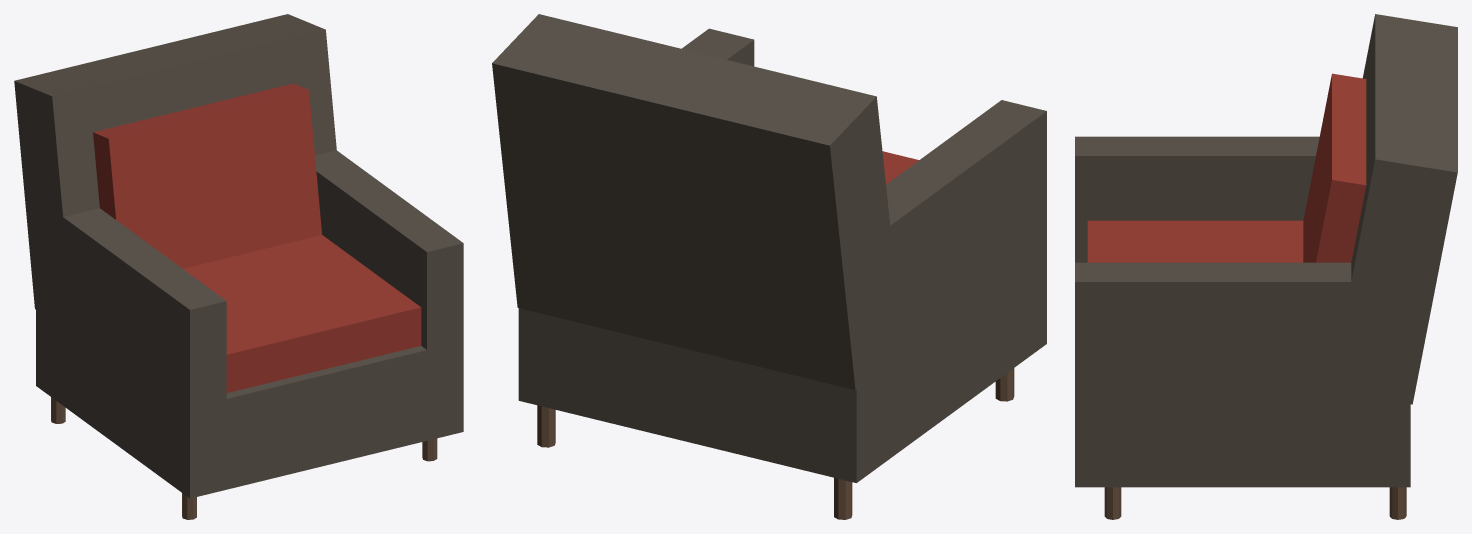
Rendered from worn-armchair.glb.
3 views of the same model, side by side, from view 1: azimuth 30°, elevation 25°; view 2: azimuth 150°, elevation 25°; view 3: azimuth 270°, elevation 25° (orthographic). The views are drawn at different scales.
Visible parts, largest first — view 1: fabric, accent-warm, wood; view 2: fabric, wood, accent-warm; view 3: fabric, accent-warm, wood.
Boxes of the visible parts, x1,y1,x2,y2 form: fabric: [14, 14, 463, 498]; accent-warm: [93, 83, 421, 392]; wood: [51, 397, 437, 519]; fabric: [492, 14, 1046, 482]; wood: [537, 368, 1014, 519]; accent-warm: [882, 151, 918, 184]; fabric: [1075, 14, 1457, 487]; accent-warm: [1087, 73, 1366, 262]; wood: [1104, 487, 1406, 519].
Bounding box in the file's own units: 0.82 × 0.9627 × 0.9123.
